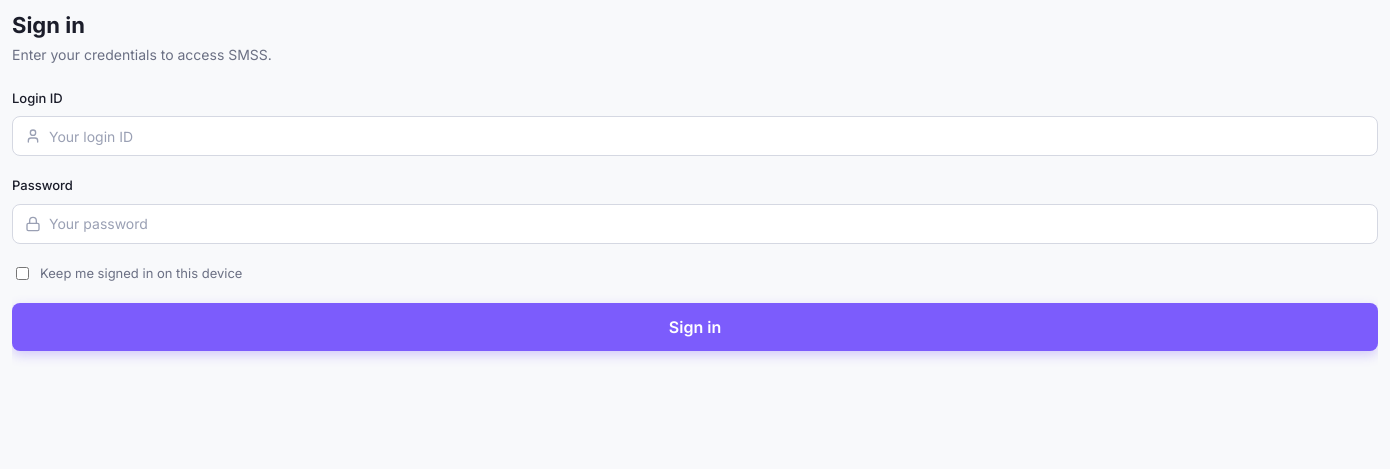
Test: LoginComponent › shows the server message inline on bad credentials, clears the password and does not toast
Type "SUAD001" into the field labelled "Login ID".
click(707, 136); type("SUAD001")  # box [49, 118, 1365, 154]
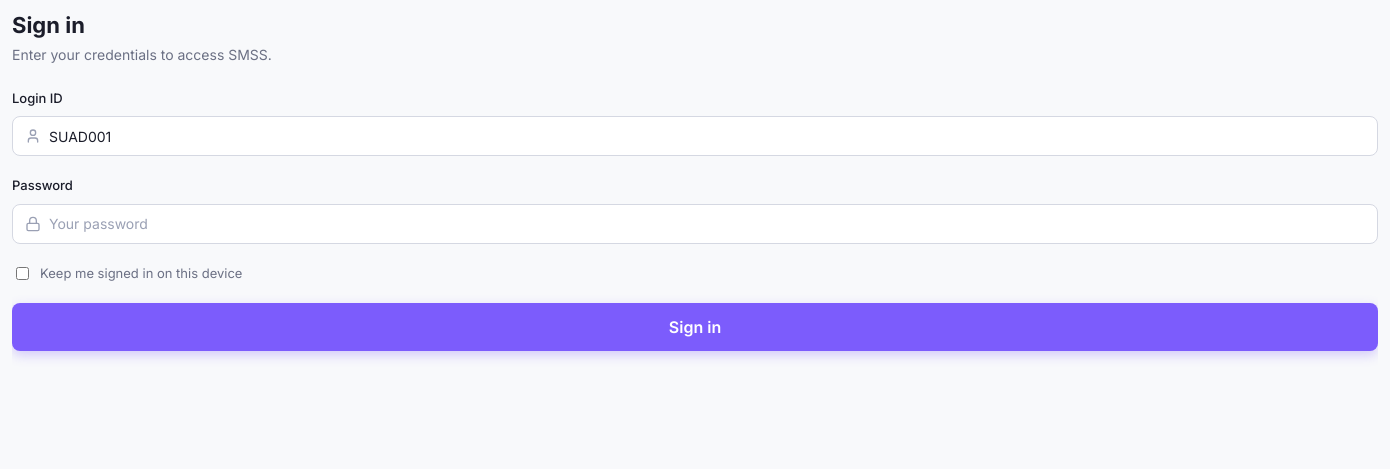
Type "secret" into the password field labelled "Password".
click(707, 224); type("secret")  # box [49, 205, 1365, 242]
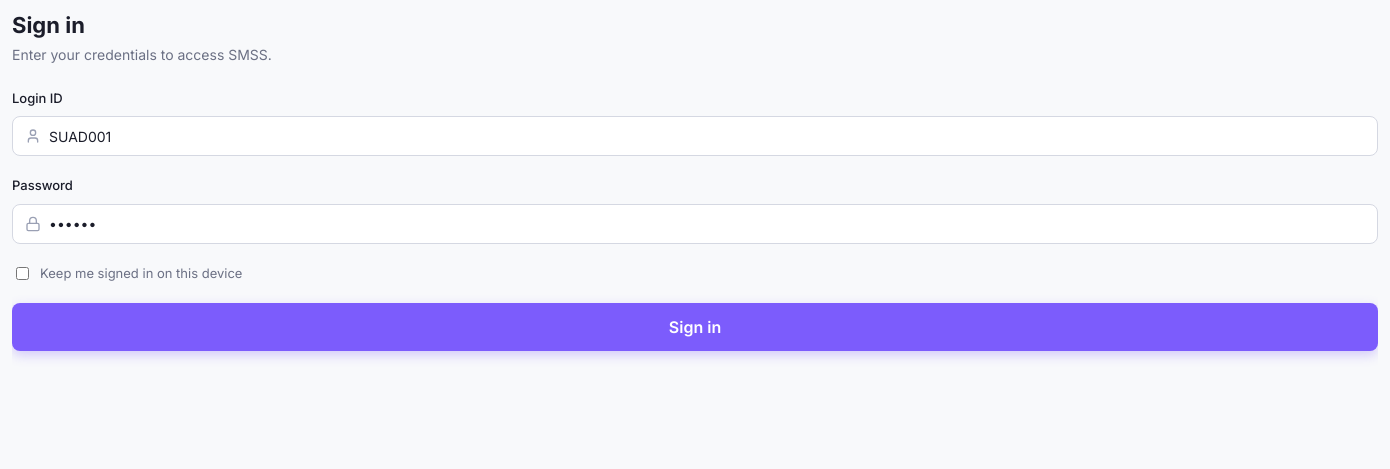
Click the submit button.
click(695, 327)  # box [12, 303, 1378, 351]
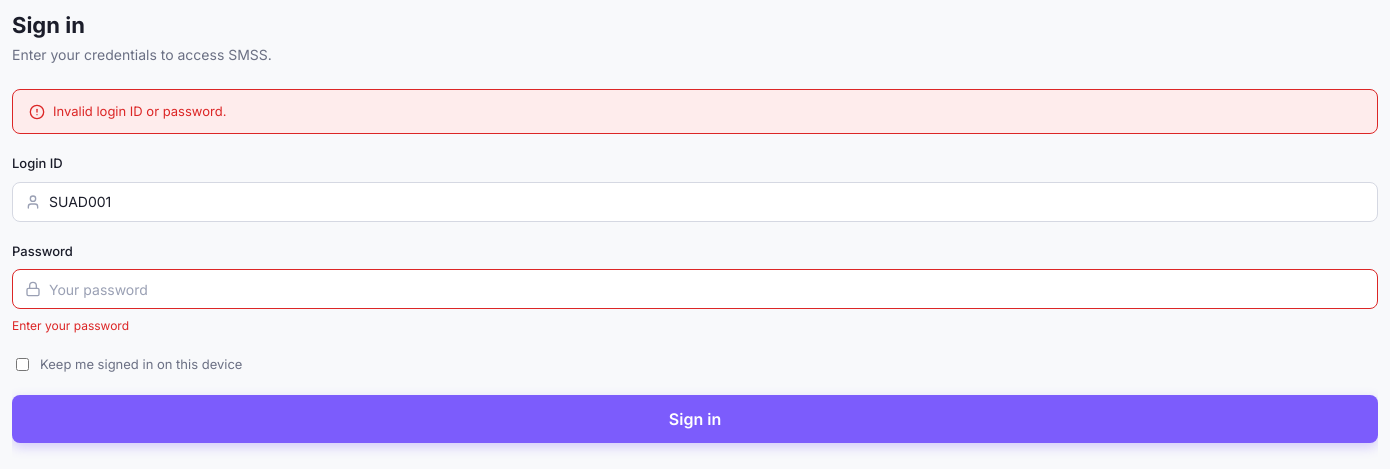
Expected: the submit button is enabled, [12, 394, 1378, 442]
Result: the message "Invalid login ID or password." is shown at [12, 88, 1378, 134]
Result: the password field labelled "Password" is empty at [49, 270, 1365, 308]
